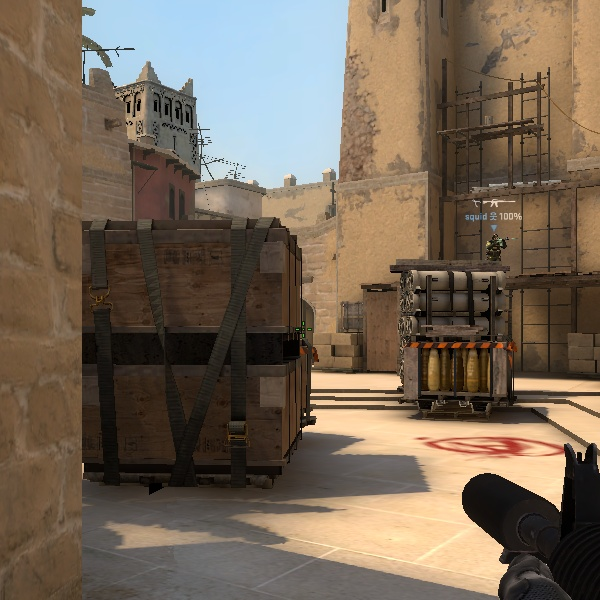ct_body: (479, 231, 511, 263)
ct_head: (490, 231, 502, 244)
